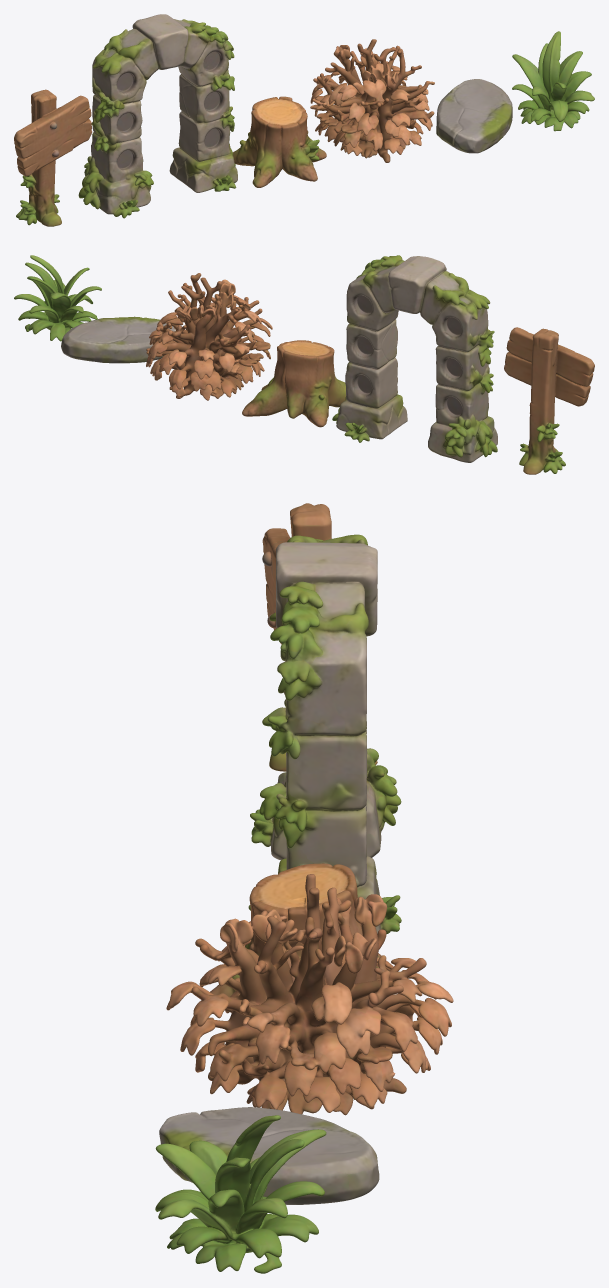
The model's file is stylized+stone+arch+3d+model.glb.
3 views of the same model, one above another, from view 1: azimuth 30°, elevation 25°; view 2: azimuth 150°, elevation 25°; view 3: azimuth 270°, elevation 25° (orthographic). The views are drawn at different scales.
Visible parts, largest first — view 1: tripo_node_3e8d85e5-d956-4cf5-bcaa-92428a840bde; view 2: tripo_node_3e8d85e5-d956-4cf5-bcaa-92428a840bde; view 3: tripo_node_3e8d85e5-d956-4cf5-bcaa-92428a840bde.
Boxes of the visible parts, x1,y1,x2,y2 form: tripo_node_3e8d85e5-d956-4cf5-bcaa-92428a840bde: [14, 14, 594, 226]; tripo_node_3e8d85e5-d956-4cf5-bcaa-92428a840bde: [14, 255, 594, 474]; tripo_node_3e8d85e5-d956-4cf5-bcaa-92428a840bde: [155, 503, 453, 1273].
Bounding box in the file's own units: 1 × 0.2855 × 0.2296.
1 material, 1 textured.
